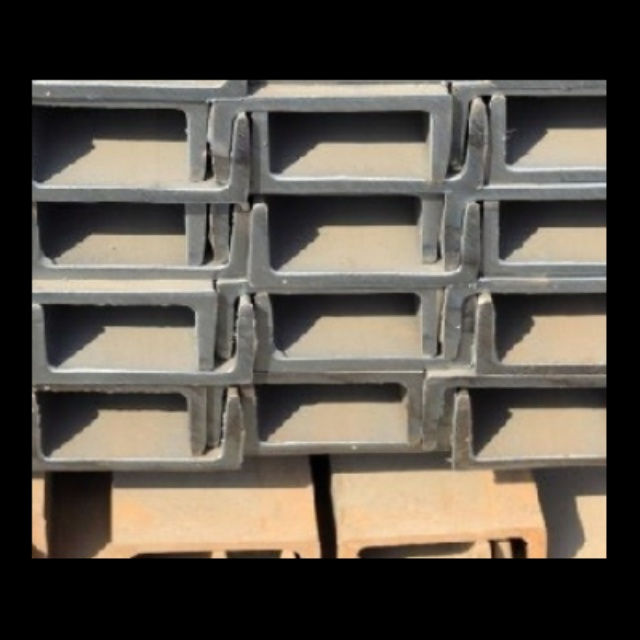Shveller: (256, 113, 479, 187), (257, 206, 471, 280), (219, 103, 444, 173), (32, 120, 241, 195), (33, 311, 244, 381), (32, 208, 240, 273), (260, 302, 473, 365), (32, 97, 205, 174), (222, 288, 435, 348), (219, 199, 434, 258), (214, 377, 411, 440), (449, 190, 606, 269), (32, 401, 232, 463), (425, 377, 606, 444), (32, 297, 212, 364), (249, 393, 453, 450), (448, 285, 606, 357), (455, 390, 606, 465), (455, 88, 606, 162), (32, 194, 196, 257), (32, 386, 197, 448), (493, 96, 606, 180), (480, 301, 606, 367), (490, 200, 606, 271)
